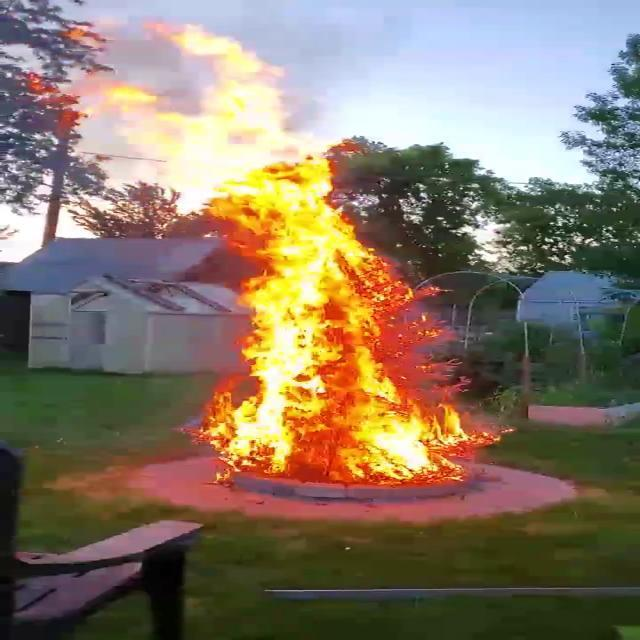Fire: (120, 28, 472, 486)
